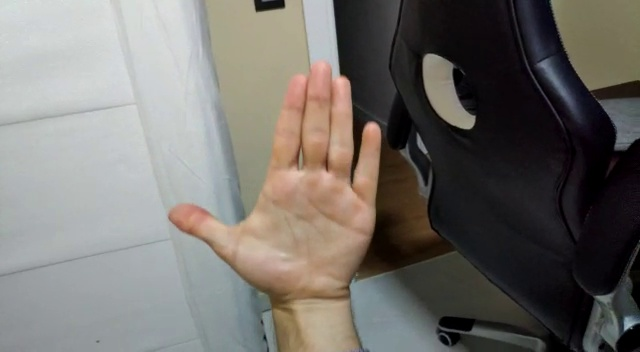Palm: (165, 53, 382, 318)
